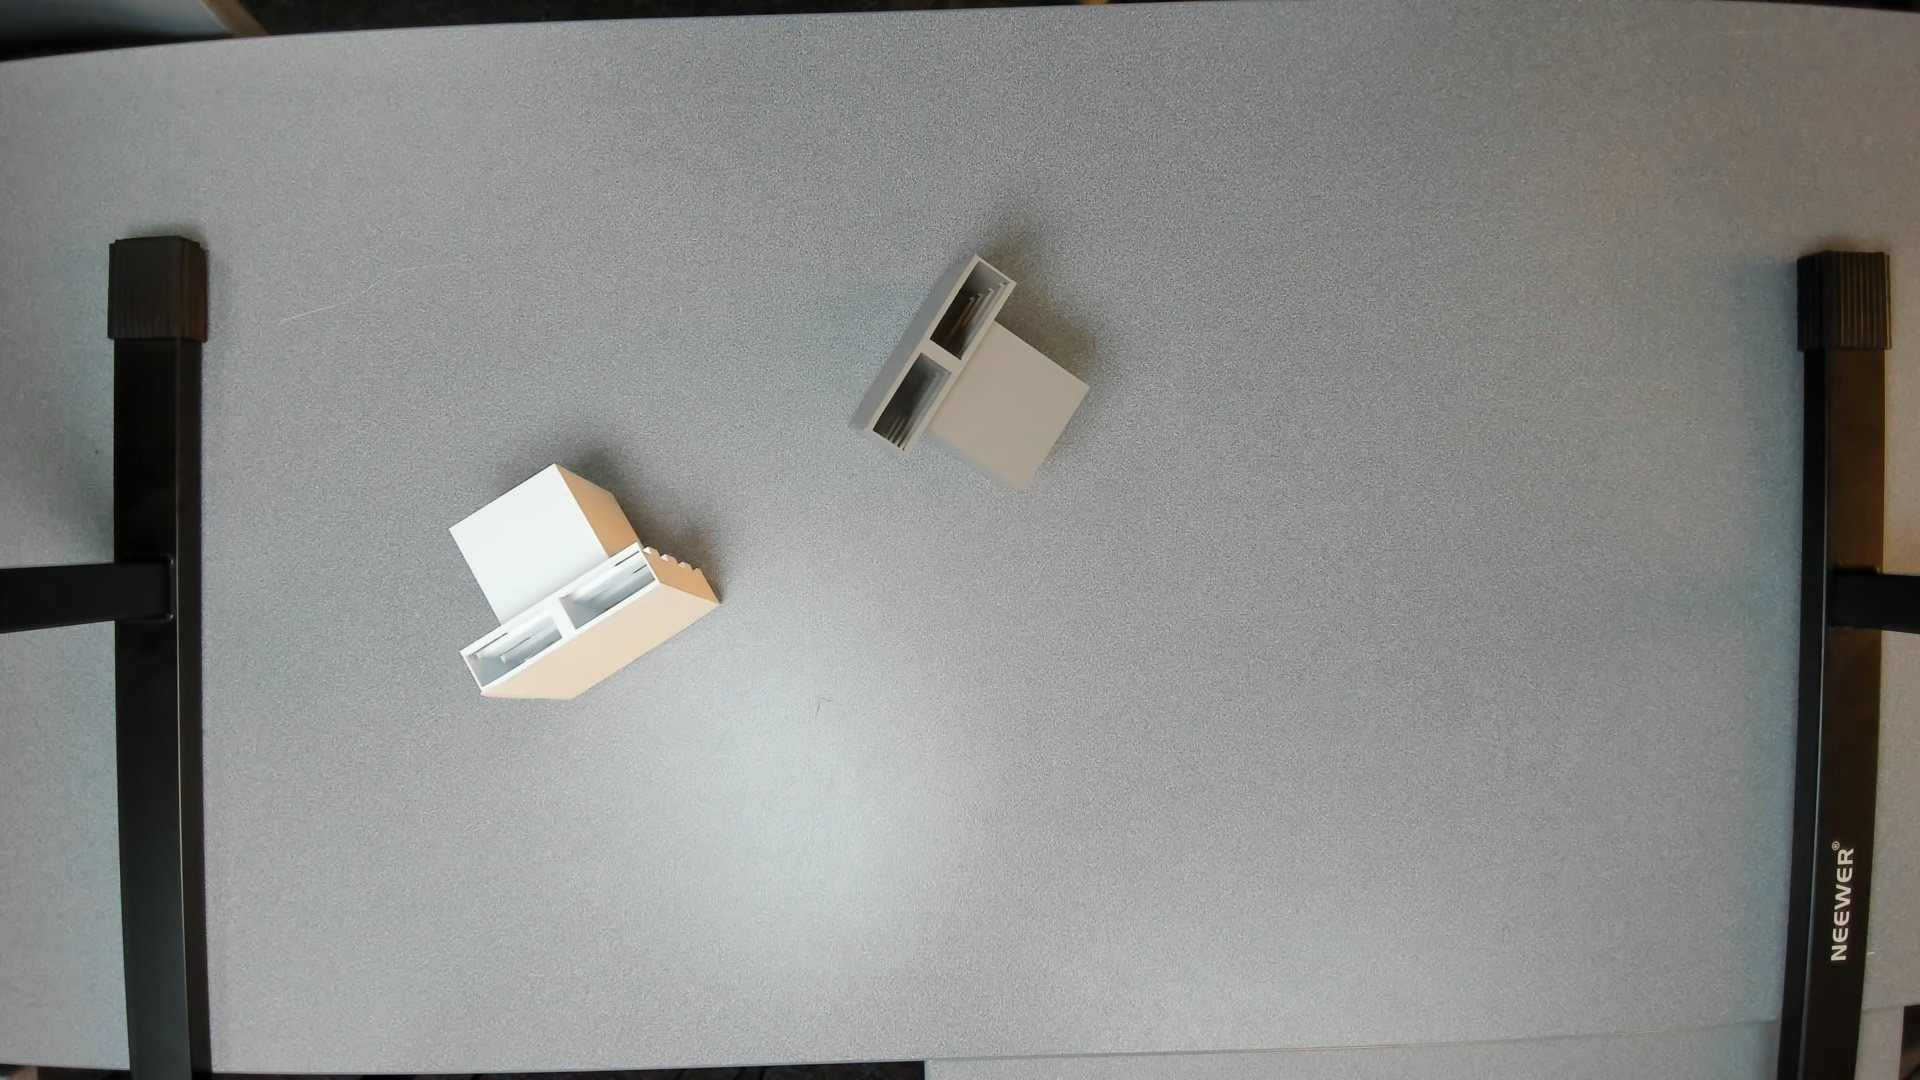grey pallet: (837, 248, 1101, 513)
white pallet: (443, 458, 745, 727)
